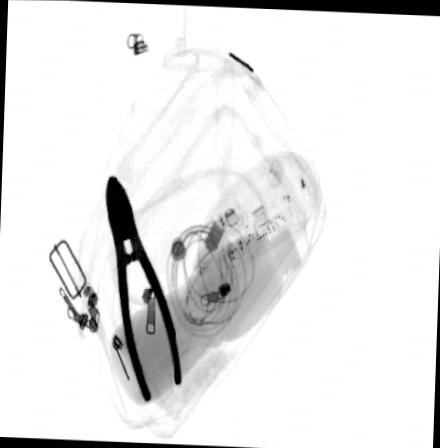Pliers: (103, 172, 181, 401)
